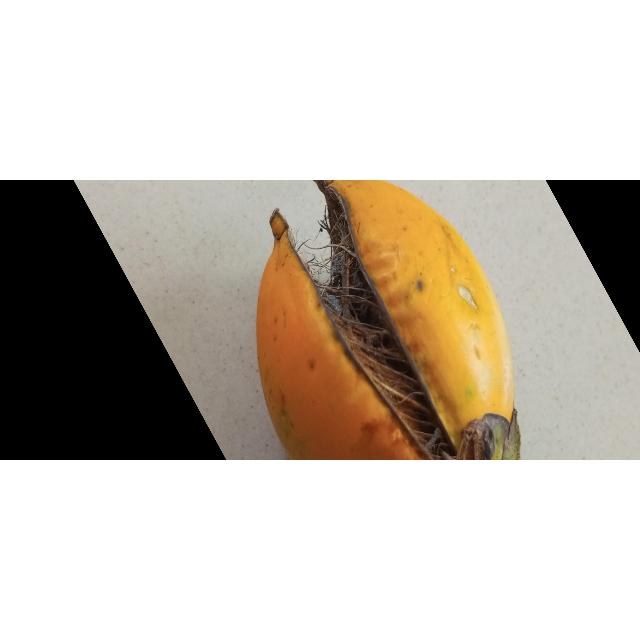damaged: (259, 180, 520, 461)
